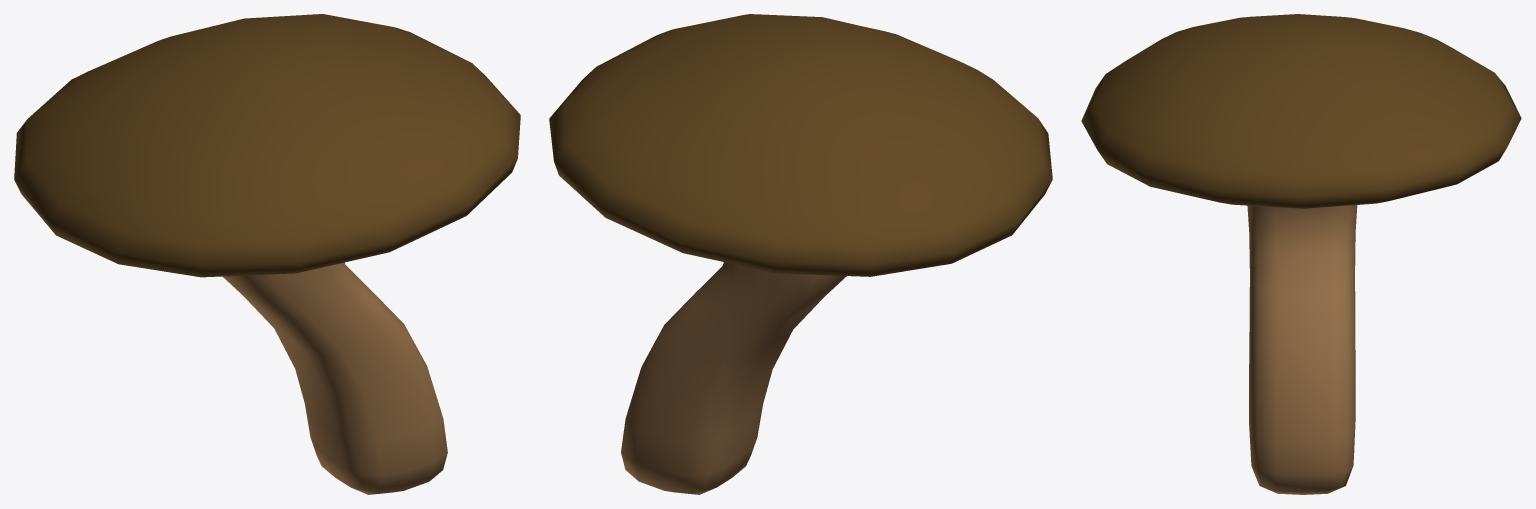
Rendered from SetaMarron.fbx.
The picture shows the model from 3 angles, left to right: view 1: azimuth 30°, elevation 25°; view 2: azimuth 150°, elevation 25°; view 3: azimuth 270°, elevation 25°; orthographic projection. The views are drawn at different scales.
Parts seen in each view (by area): view 1: Cube; view 2: Cube; view 3: Cube.
Part boxes in pixels (x1=…): Cube: x1=14, y1=14, x2=520, y2=494; Cube: x1=549, y1=14, x2=1052, y2=494; Cube: x1=1081, y1=14, x2=1521, y2=494.
Bounding box in the file's own units: 690 × 686 × 681.
Materials: 1 (1 with a texture image).
